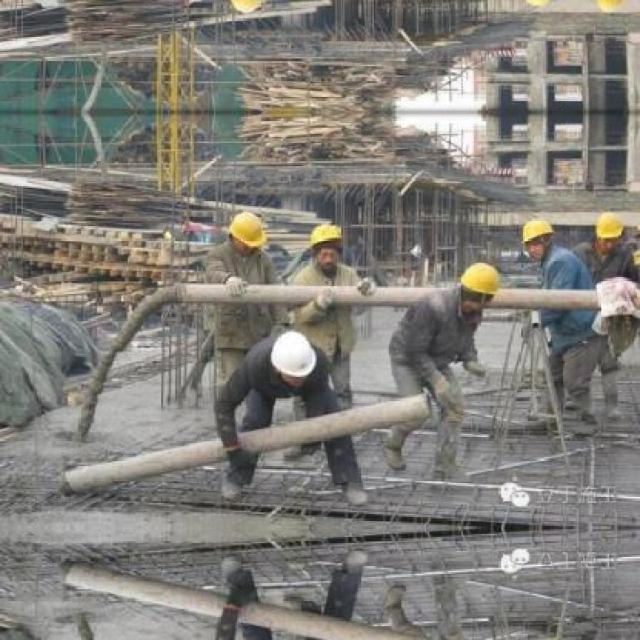helmet: (270, 330, 316, 378), (459, 260, 498, 298), (228, 209, 268, 243), (308, 220, 347, 244), (519, 217, 554, 242), (596, 210, 622, 238)
